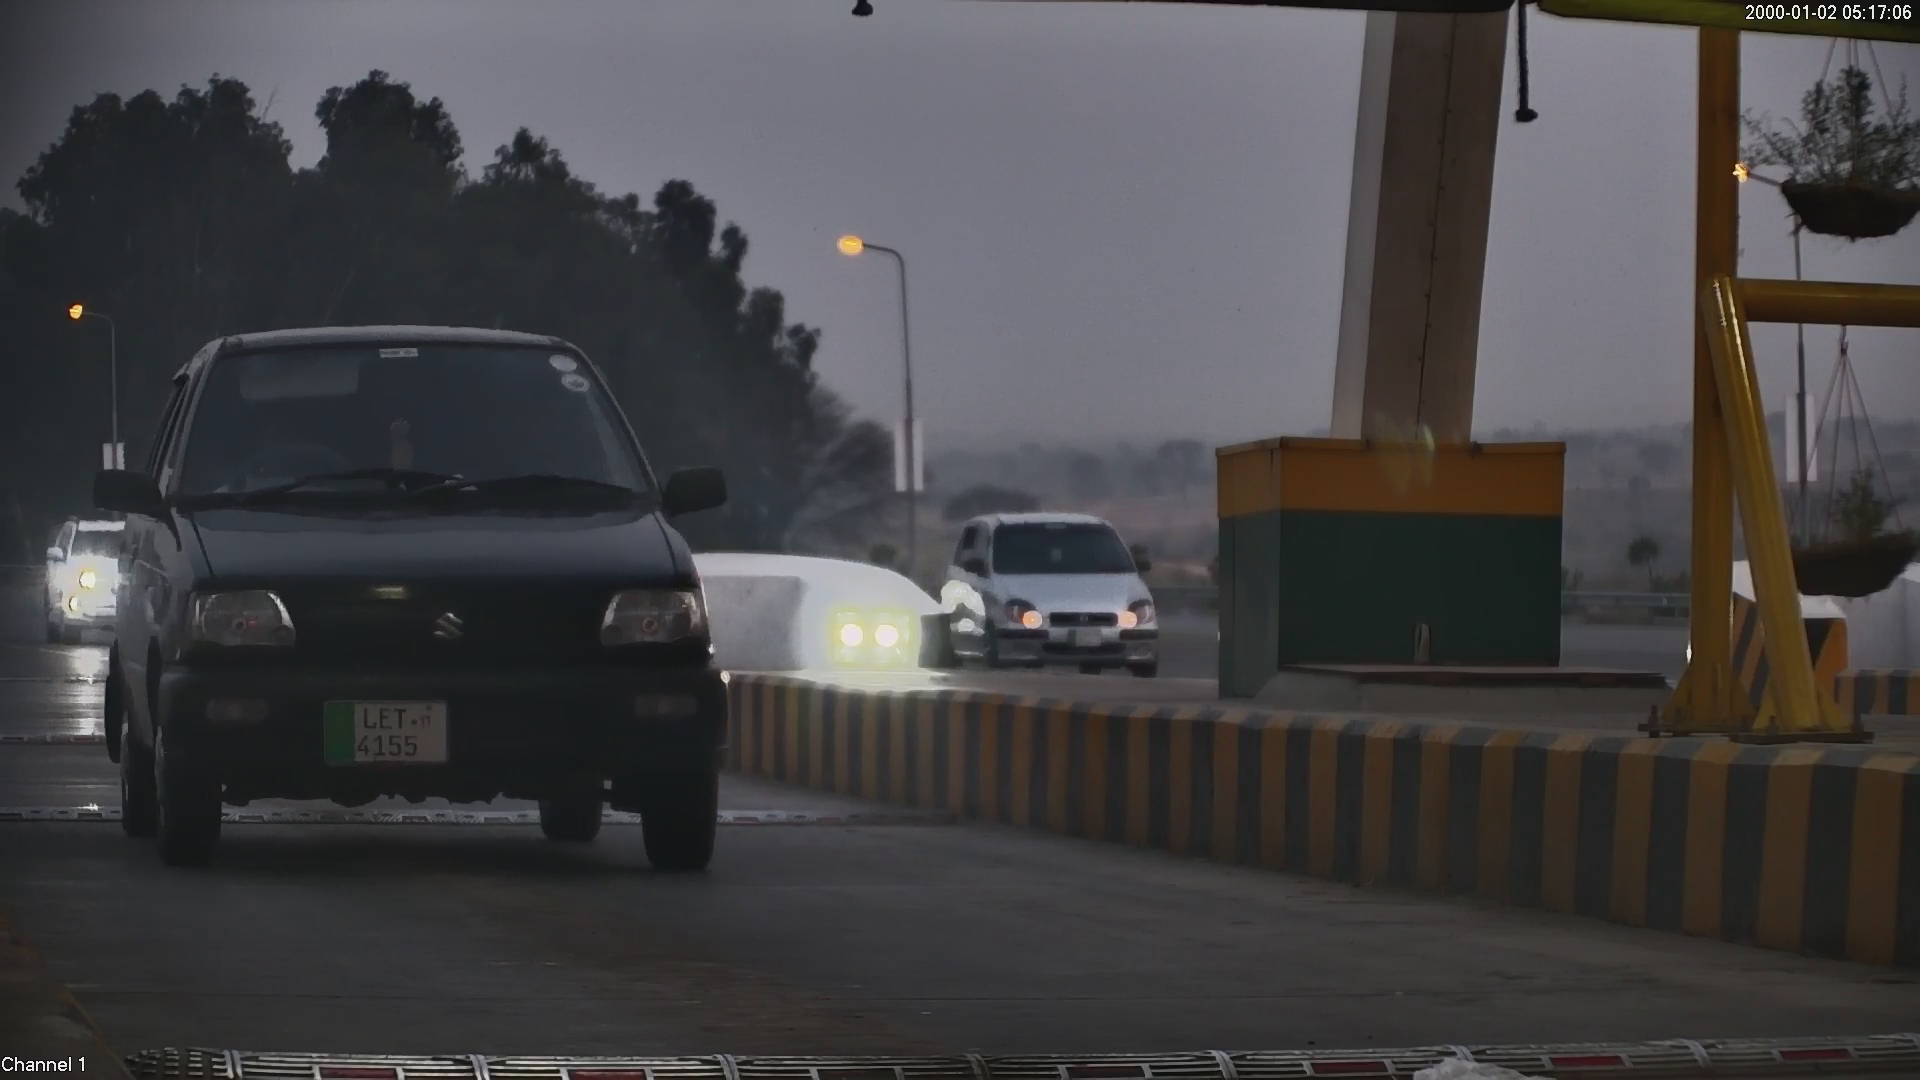Number_Plate: (303, 683, 466, 776)
